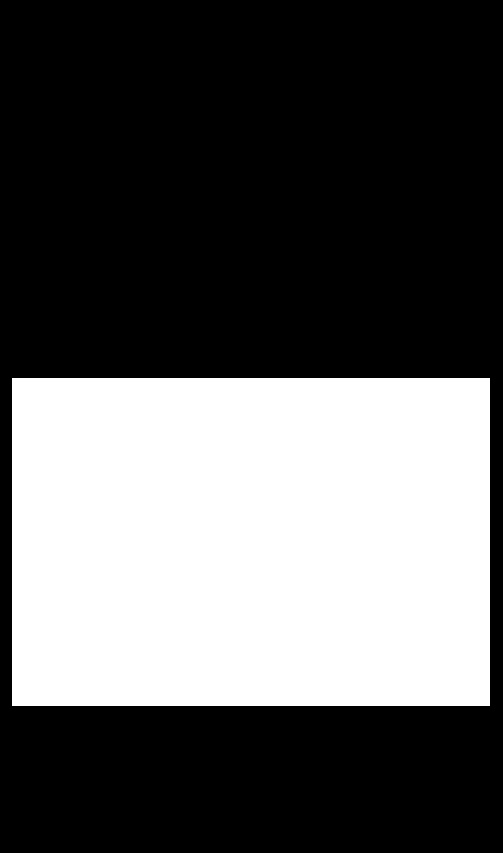table: (12, 378, 489, 705)
